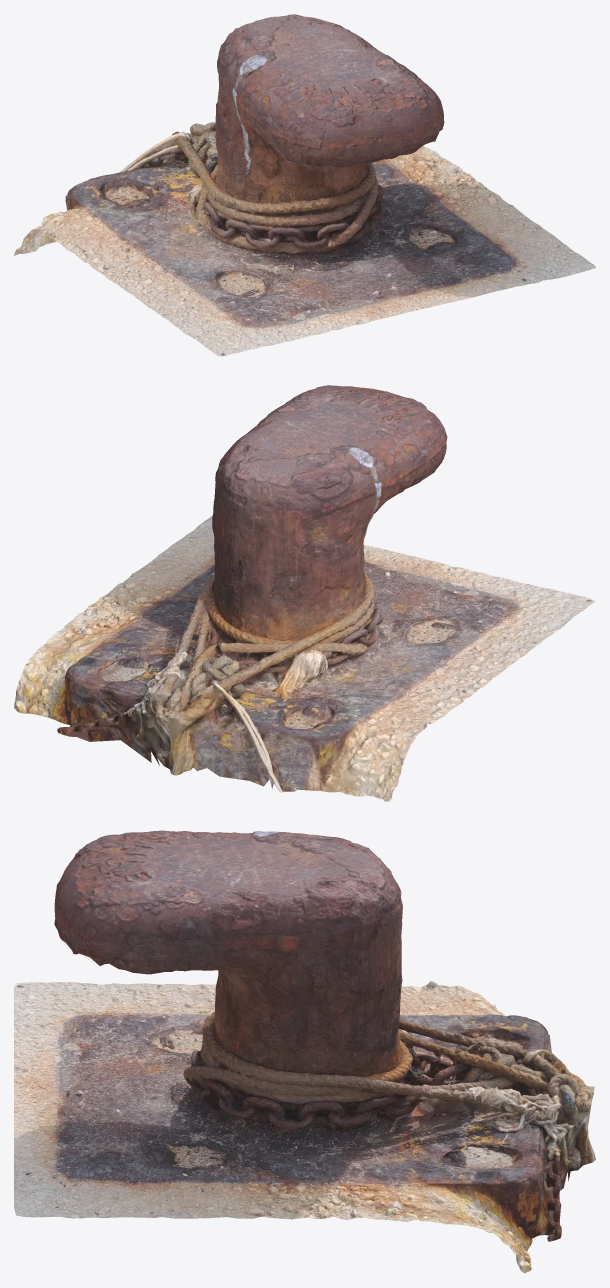
The model's file is rusty-bollard.glb.
The picture shows the model from 3 angles, top to bottom: view 1: azimuth 30°, elevation 25°; view 2: azimuth 150°, elevation 25°; view 3: azimuth 270°, elevation 25°; orthographic projection. The views are drawn at different scales.
Visible parts, largest first — view 1: K2; view 2: K2; view 3: K2.
Part boxes in pixels (bbox=[...]): K2: bbox=[14, 14, 595, 356]; K2: bbox=[14, 385, 595, 801]; K2: bbox=[14, 830, 595, 1273].
Size of the model in its own units: 0.9149 by 0.5785 by 0.9779.
Materials: 1 (1 with a texture image).
